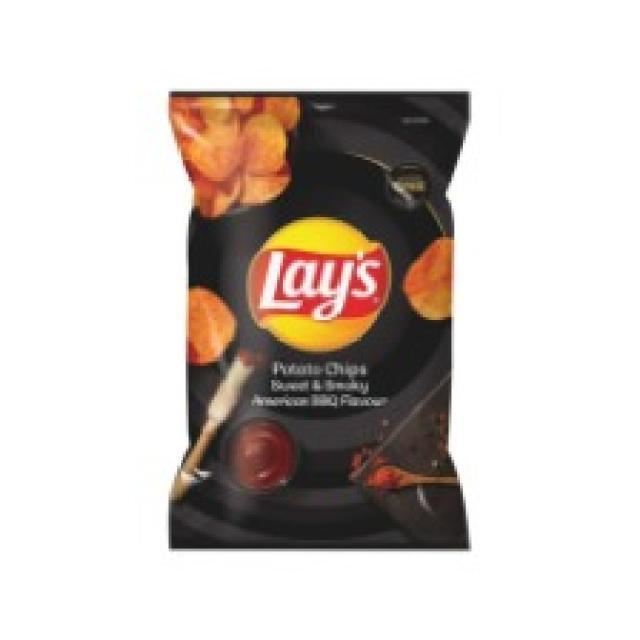plastic: (163, 82, 478, 563)
